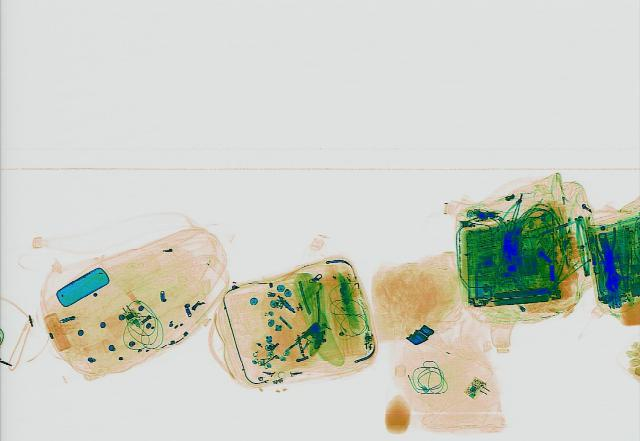Wrench: (590, 231, 626, 292)
